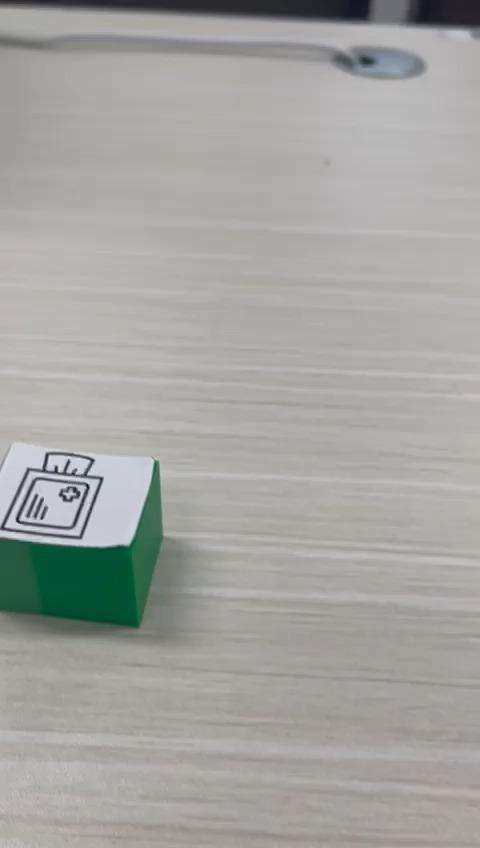Gauze: (0, 440, 163, 628)
